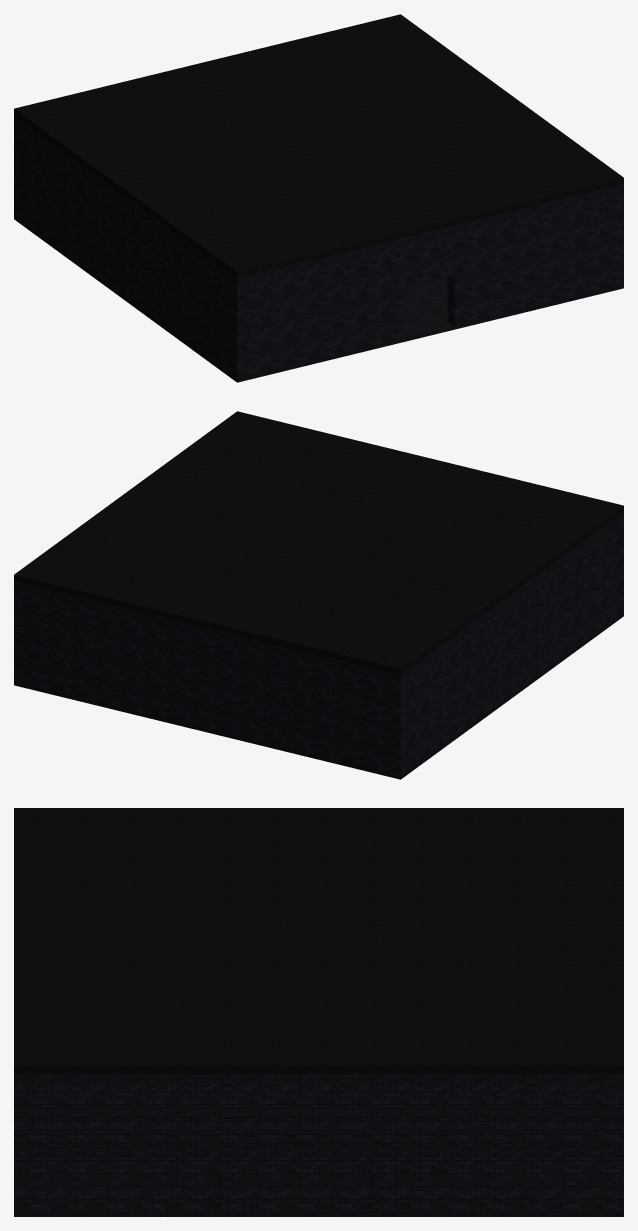
The model's file is d_thron.glb.
3 renders of one model, top to bottom at view 1: azimuth 30°, elevation 25°; view 2: azimuth 150°, elevation 25°; view 3: azimuth 270°, elevation 25°, orthographic. The views are drawn at different scales.
Parts seen in each view (by area): view 1: ceiling, wallW, wallS1, wallS-1, floor, lintelS, wallE; view 2: ceiling, wallN, wallW, floor, wallE; view 3: ceiling, wallE, floor.
Boxes of the visible parts, x1=… form: ceiling: x1=14, y1=14, x2=623, y2=278; wallW: x1=14, y1=115, x2=249, y2=379; wallS1: x1=447, y1=187, x2=611, y2=326; wallS-1: x1=249, y1=237, x2=406, y2=376; floor: x1=14, y1=216, x2=623, y2=382; lintelS: x1=406, y1=225, x2=454, y2=287; wallE: x1=612, y1=184, x2=623, y2=287; ceiling: x1=14, y1=411, x2=623, y2=675; wallN: x1=26, y1=584, x2=388, y2=773; wallW: x1=388, y1=512, x2=623, y2=776; floor: x1=14, y1=613, x2=623, y2=779; wallE: x1=14, y1=581, x2=25, y2=684; ceiling: x1=14, y1=808, x2=623, y2=1074; wallE: x1=14, y1=1074, x2=623, y2=1212; floor: x1=14, y1=1212, x2=623, y2=1216.
Bounding box in the file's own units: 64 × 17.5 × 64.
10 materials, 8 textured.
